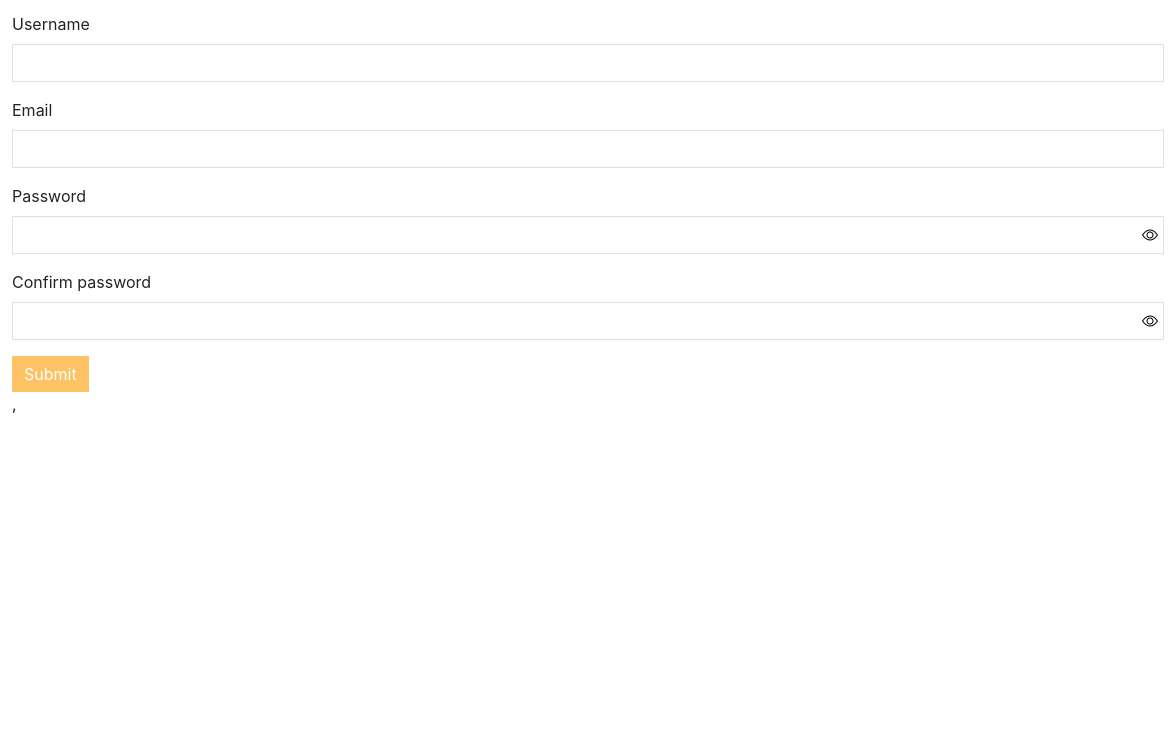
Test case: Register Form › should display an error message for a password longer than 16 characters
Type "user" into the field labelled "Username" at (588,63), box [12,44,1164,82]
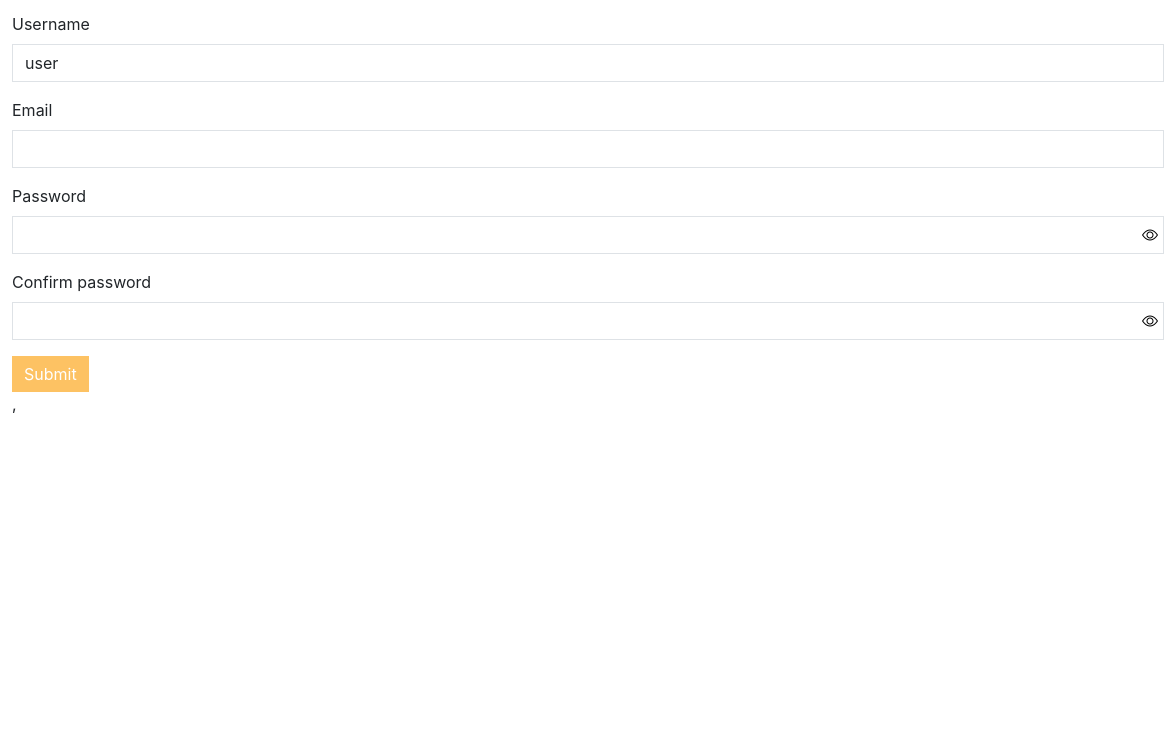
Type "a@a.pl" into the field labelled "Email" at (588,149), box [12,130,1164,168]
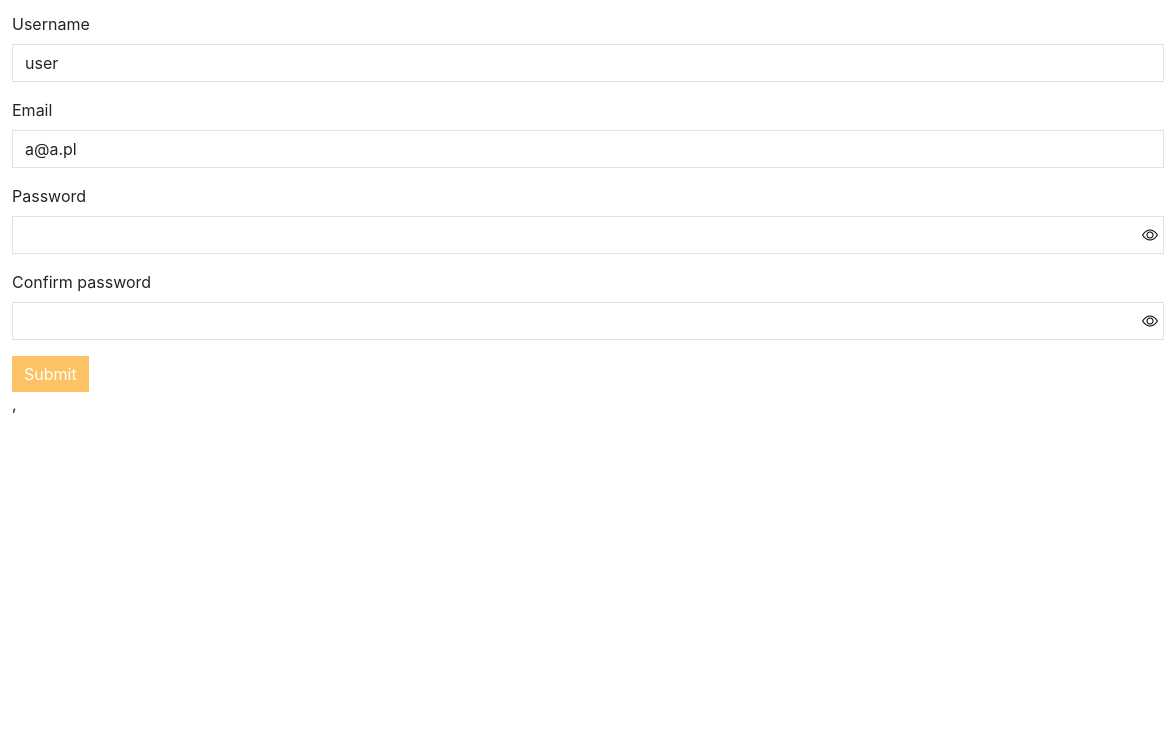
Type "Pa$$w0rd1Pa$$w0rd1" into the password field labelled "Password" at (588,235), box [12,216,1164,254]
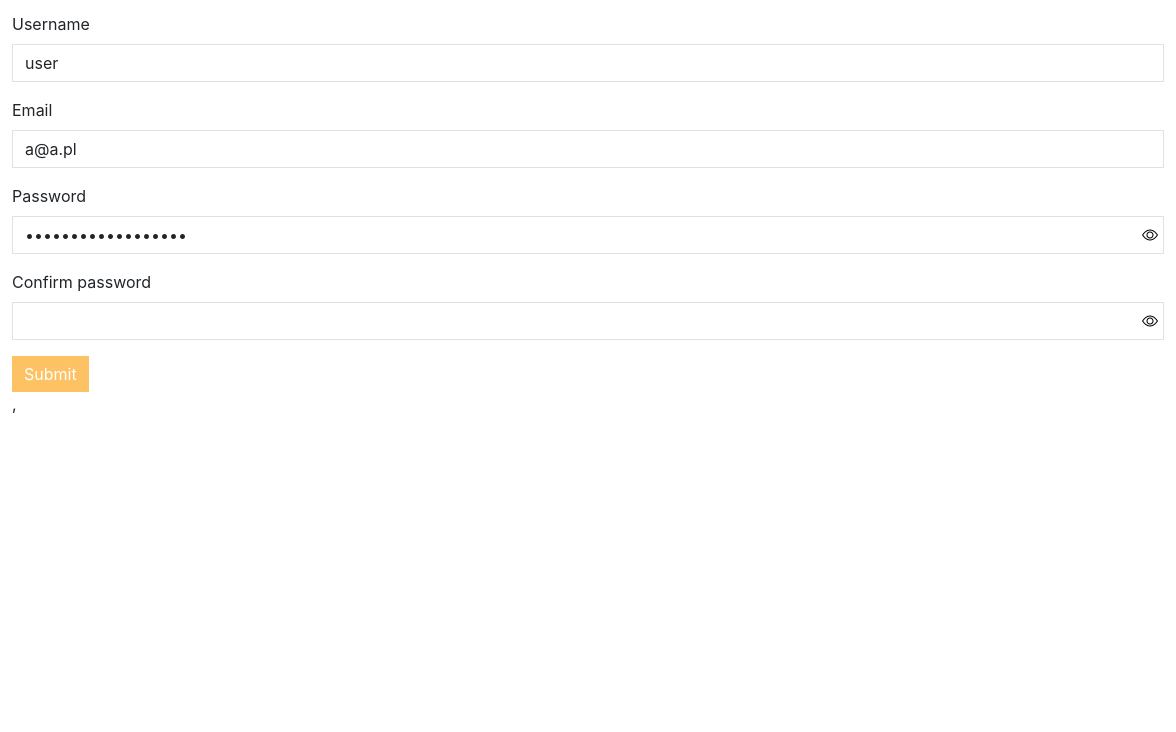
Type "Pa$$w0rd" into the password field labelled "Confirm password" at (588,321), box [12,302,1164,340]
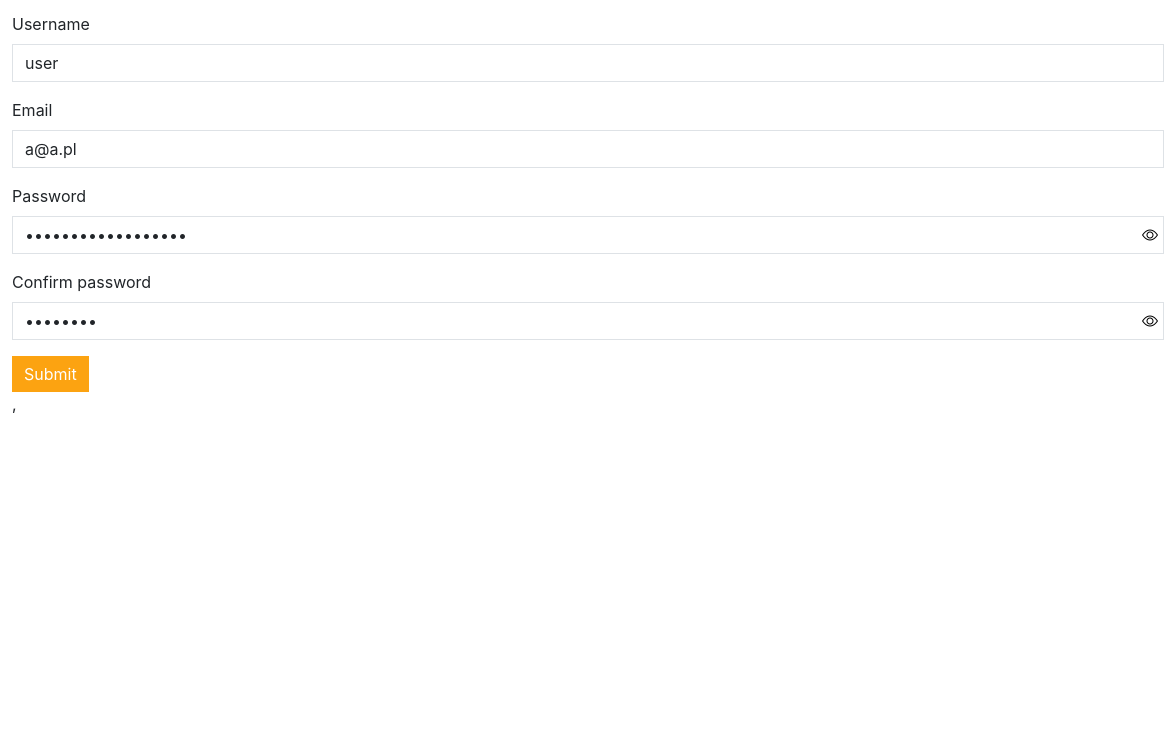
Click the button "Submit" at (50,374), box [12,356,89,392]
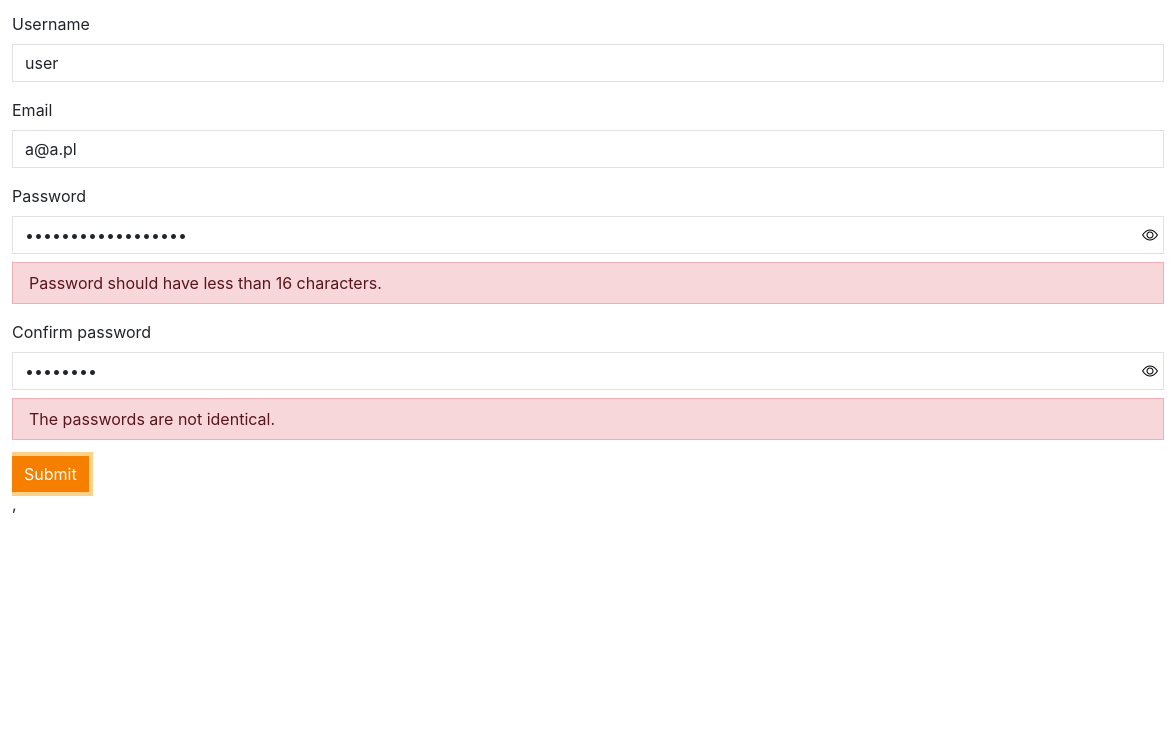
Expected: the text "Password should have less than 16 characters." is shown, [12,262,1164,304]
